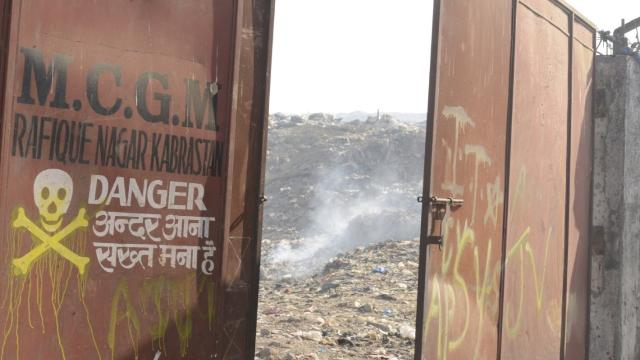smoke: (267, 144, 422, 271)
